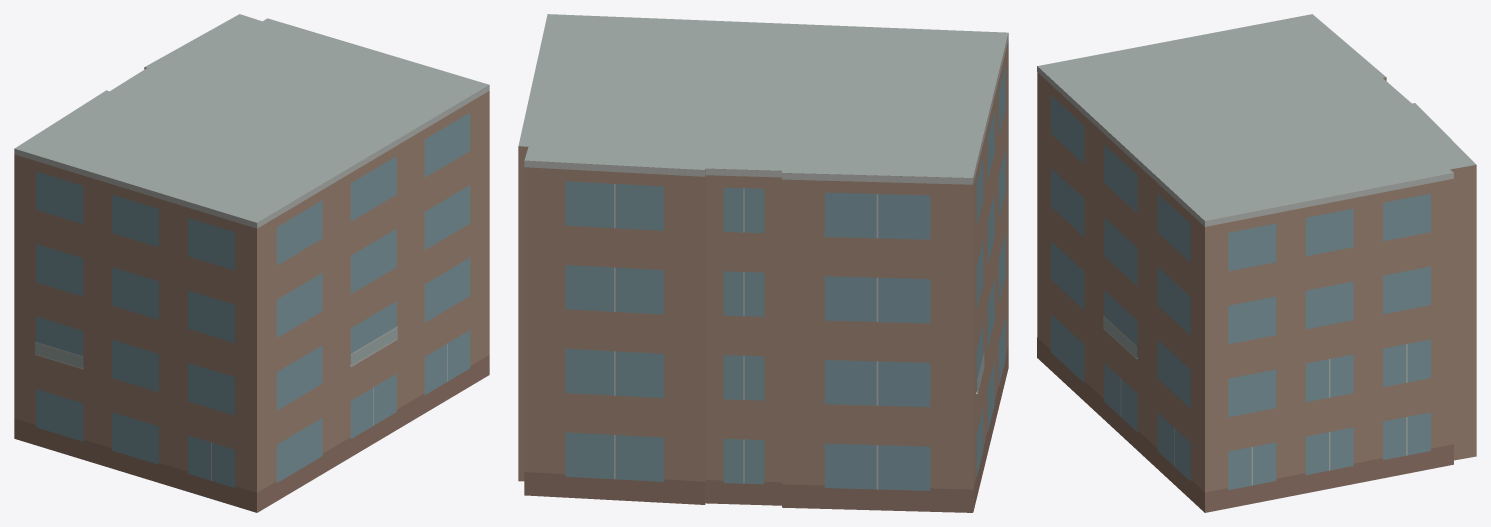
Rendered from survey-upis-32745559.glb.
The picture shows the model from 3 angles, left to right: view 1: azimuth 30°, elevation 25°; view 2: azimuth 150°, elevation 25°; view 3: azimuth 270°, elevation 25°; orthographic projection. The views are drawn at different scales.
Parts seen in each view (by area): view 1: survey-upis-32745559.tmp; view 2: survey-upis-32745559.tmp; view 3: survey-upis-32745559.tmp.
Boxes of the visible parts, bbox=[...] form: survey-upis-32745559.tmp: bbox=[14, 14, 489, 512]; survey-upis-32745559.tmp: bbox=[518, 14, 1008, 512]; survey-upis-32745559.tmp: bbox=[1037, 14, 1476, 512].
Size of the model in its own units: 18.59 by 12.2 by 16.66.
